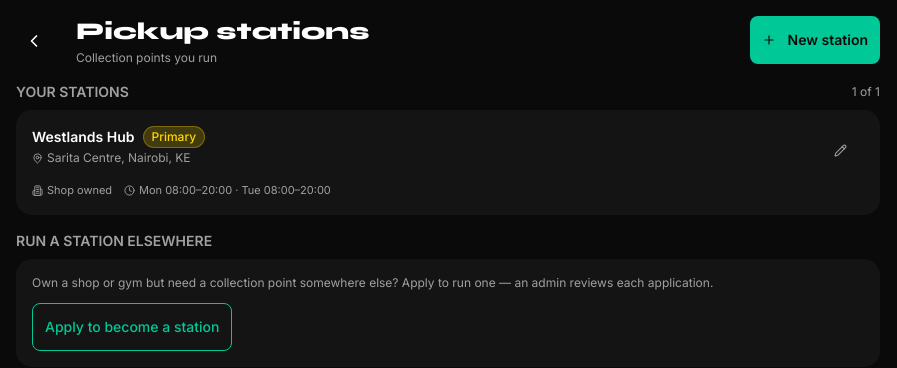
Test case: StationManage — create, edit and apply › reports the outcome of a decision rather than leaving a stale pending state
The image size is (897, 368).
expect the text "Westlands Hub" is shown: met, box [32, 127, 134, 147]
Click the button "Apply to become a station" at [132, 326], box [32, 302, 232, 350]
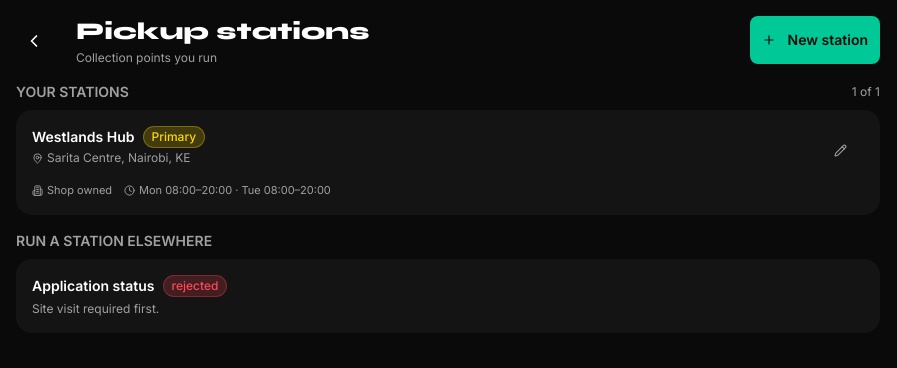
expect the text "Site visit required first." is shown: met, box [32, 300, 159, 316]
expect the button "Apply to become a station" is gone: met
